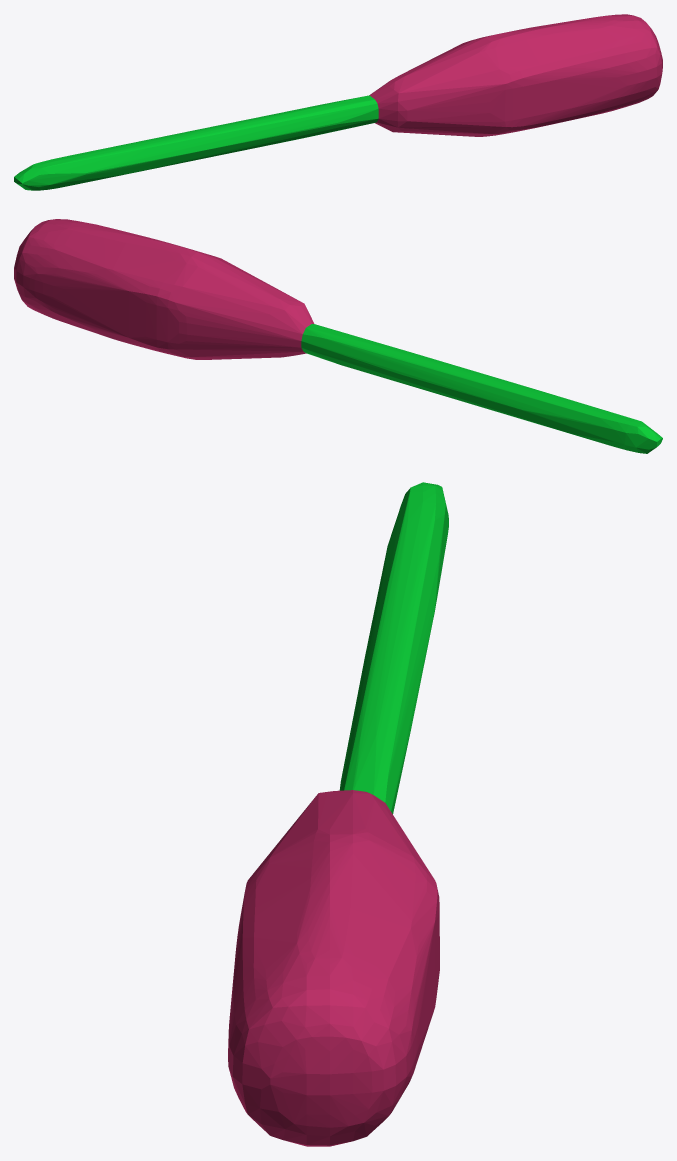
Rendered from coacd_merged.obj.
The picture shows the model from 3 angles, top to bottom: view 1: azimuth 30°, elevation 25°; view 2: azimuth 150°, elevation 25°; view 3: azimuth 270°, elevation 25°; orthographic projection. The views are drawn at different scales.
Visible parts, largest first — view 1: geometry_1, geometry_0; view 2: geometry_1, geometry_0; view 3: geometry_1, geometry_0.
Boxes of the visible parts, box(x1,y1,x2,y2) form: geometry_1: box(369, 14, 662, 136); geometry_0: box(14, 95, 378, 190); geometry_1: box(14, 219, 314, 359); geometry_0: box(301, 324, 662, 453); geometry_1: box(228, 790, 439, 1146); geometry_0: box(339, 482, 448, 814).
Size of the model in its own units: 0.2627 by 0.0399 by 0.0412.
